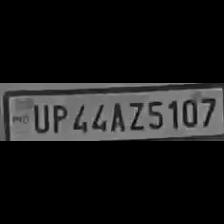0: (178, 96, 198, 128)
1: (163, 96, 178, 130)
4: (68, 100, 88, 134), (88, 100, 106, 132)
5: (144, 97, 164, 130)
7: (198, 95, 216, 127)
A: (106, 99, 124, 133)
P: (47, 101, 66, 133)
U: (28, 101, 50, 133)
Z: (125, 98, 143, 132)
